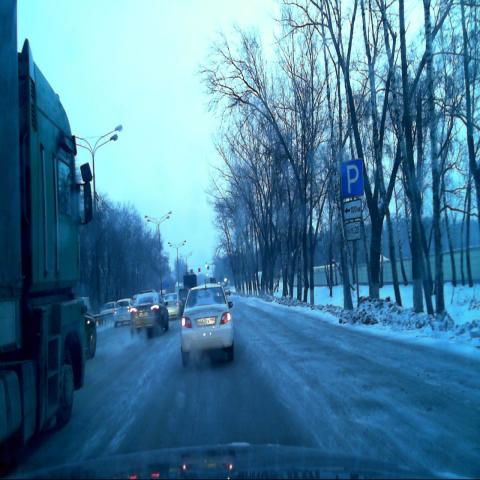6_4: (341, 158, 364, 198)
8_1_4: (343, 199, 362, 220)
8_8: (345, 221, 361, 241)
